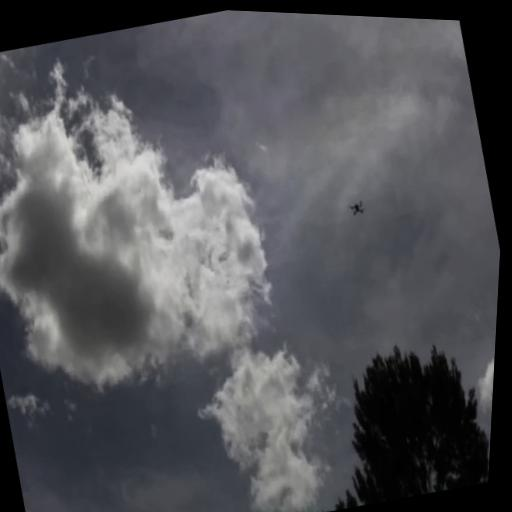drones: (343, 188, 375, 226)
